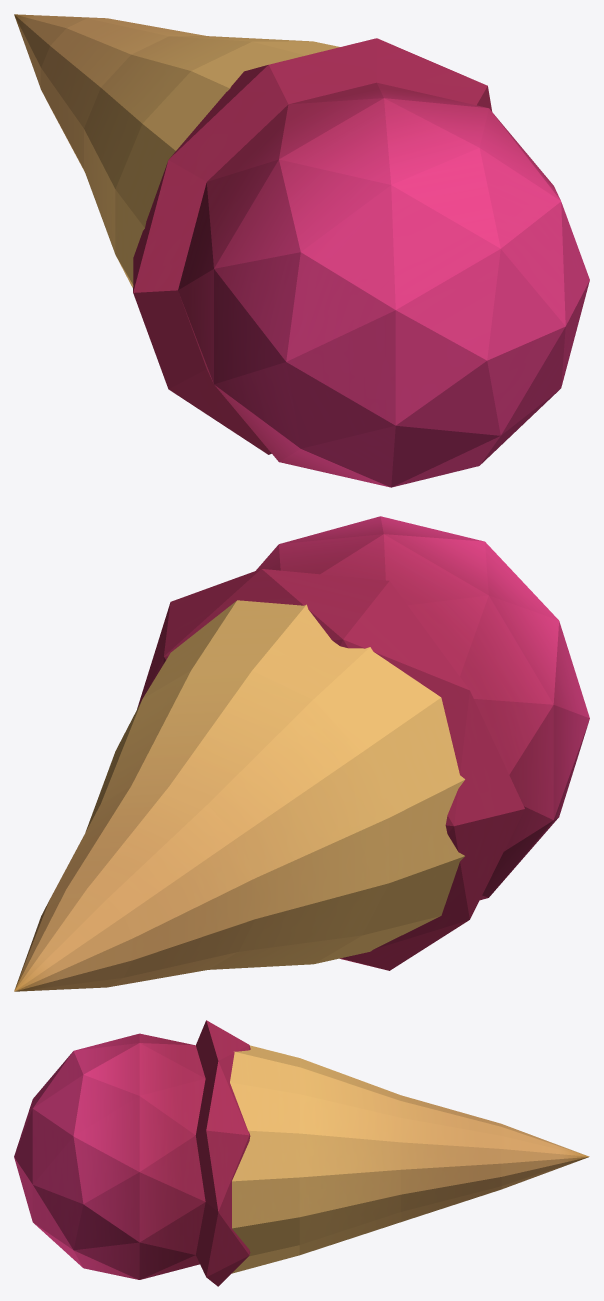
File: Icecream.fbx
The picture shows the model from 3 angles, top to bottom: view 1: azimuth 30°, elevation 25°; view 2: azimuth 150°, elevation 25°; view 3: azimuth 270°, elevation 25°; orthographic projection. The views are drawn at different scales.
Parts seen in each view (by area): view 1: Icecream.001, Icecream.005, Icecream.004, Icecream.003, Icecream.006, Icecream.007, Icecream; view 2: Icecream.005, Icecream.006, Icecream.007, Icecream.003, Icecream.004, Icecream; view 3: Icecream.005, Icecream.006, Icecream.003, Icecream.004, Icecream.007, Icecream.001, Icecream.
Boxes of the visible parts, x1=… form: Icecream.001: x1=286, y1=148, x2=589, y2=487; Icecream.005: x1=115, y1=38, x2=492, y2=454; Icecream.004: x1=214, y1=98, x2=560, y2=487; Icecream.003: x1=178, y1=82, x2=486, y2=383; Icecream.006: x1=84, y1=36, x2=308, y2=253; Icecream.007: x1=41, y1=18, x2=205, y2=171; Icecream: x1=14, y1=14, x2=104, y2=88; Icecream.005: x1=137, y1=569, x2=524, y2=970; Icecream.006: x1=85, y1=670, x2=389, y2=969; Icecream.007: x1=50, y1=786, x2=255, y2=987; Icecream.003: x1=256, y1=534, x2=553, y2=900; Icecream.004: x1=280, y1=516, x2=589, y2=892; Icecream: x1=14, y1=889, x2=132, y2=991; Icecream.005: x1=195, y1=1020, x2=299, y2=1286; Icecream.006: x1=299, y1=1058, x2=401, y2=1255; Icecream.003: x1=139, y1=1033, x2=205, y2=1279; Icecream.004: x1=73, y1=1033, x2=139, y2=1279; Icecream.007: x1=400, y1=1095, x2=501, y2=1221; Icecream.001: x1=14, y1=1051, x2=83, y2=1267; Icecream: x1=501, y1=1123, x2=589, y2=1189.
Bounding box in the file's own units: 85.42 × 83.27 × 183.
